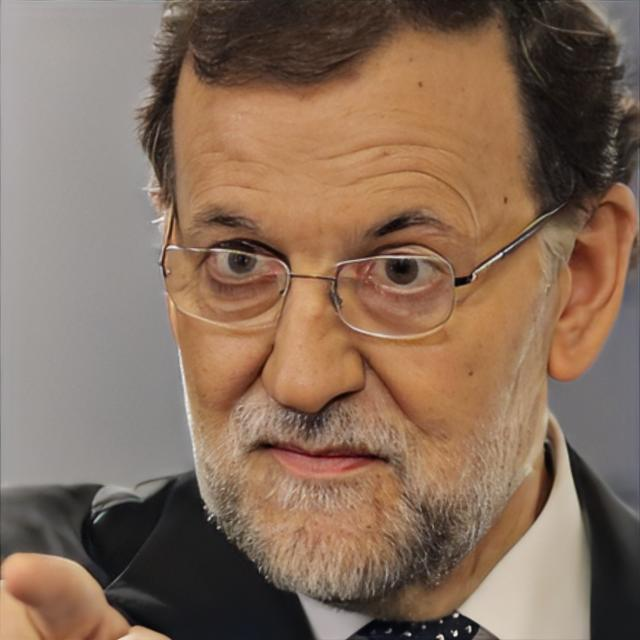surprise: (162, 20, 548, 608)
